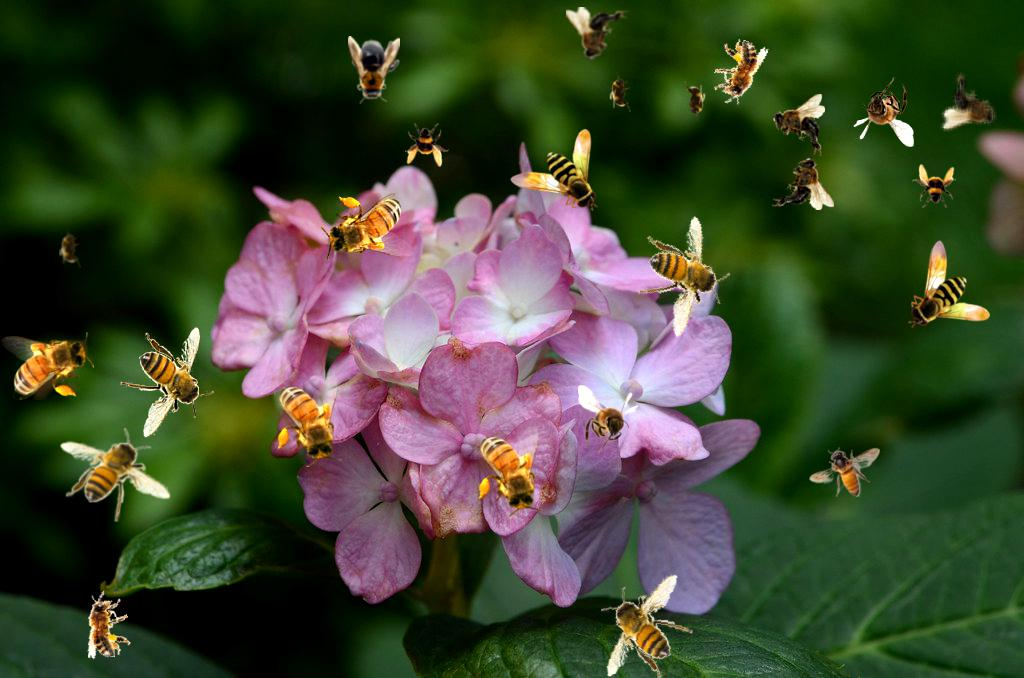Bee: (621, 211, 744, 345), (592, 564, 701, 678), (60, 428, 171, 522), (120, 327, 214, 438), (510, 129, 598, 211), (908, 240, 990, 328), (475, 424, 543, 517), (321, 193, 414, 261), (274, 374, 342, 467), (1, 332, 94, 400), (938, 68, 1007, 144), (706, 34, 770, 111), (853, 77, 914, 147), (578, 385, 639, 455), (78, 588, 134, 661), (809, 447, 880, 497), (348, 36, 400, 104), (566, 7, 628, 60), (772, 157, 834, 210), (772, 94, 825, 156), (405, 123, 449, 167), (912, 164, 956, 208), (684, 81, 706, 121), (609, 72, 631, 112), (59, 228, 81, 268)
